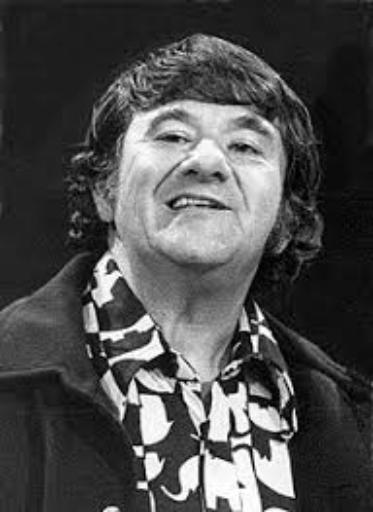left_eye: (229, 140, 265, 162)
left_lip_corner: (224, 202, 239, 220)
right_eye: (152, 131, 192, 152)
right_lip_corner: (164, 195, 179, 215)
